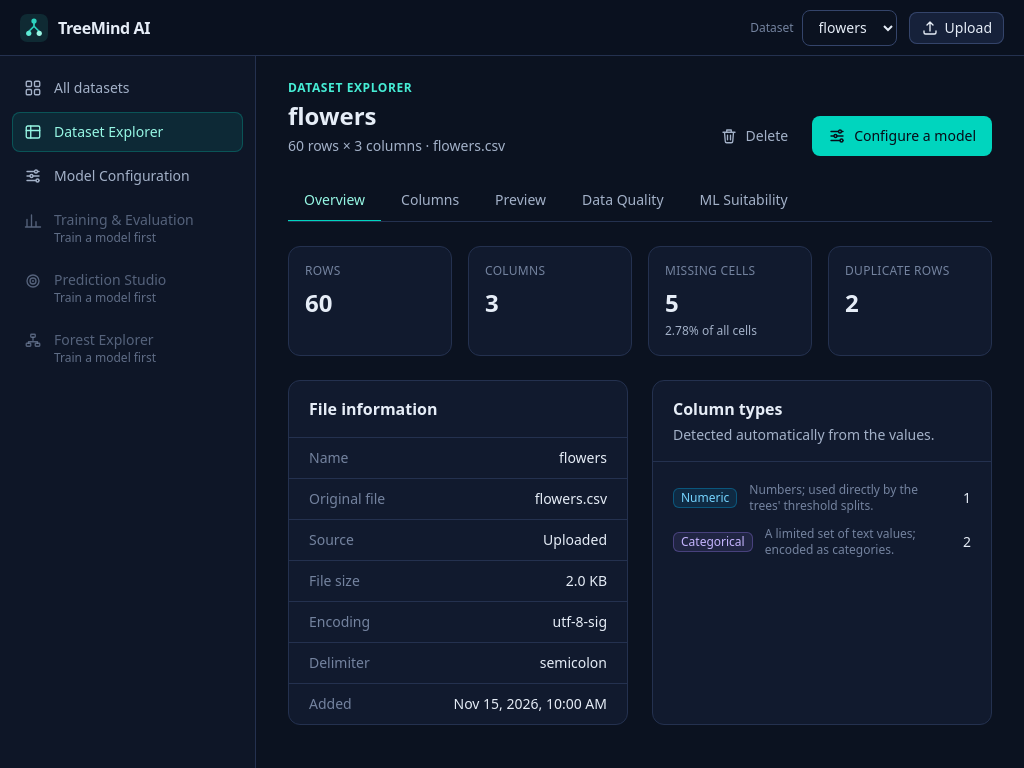
Scenario: Dataset Explorer › switches between the five sections via the URL
The image size is (1024, 768).
Check: the heading "flowers" is shown, box [288,99,376,132]
Click the tab "Columns": x=430, y=201 [385,180,475,222]
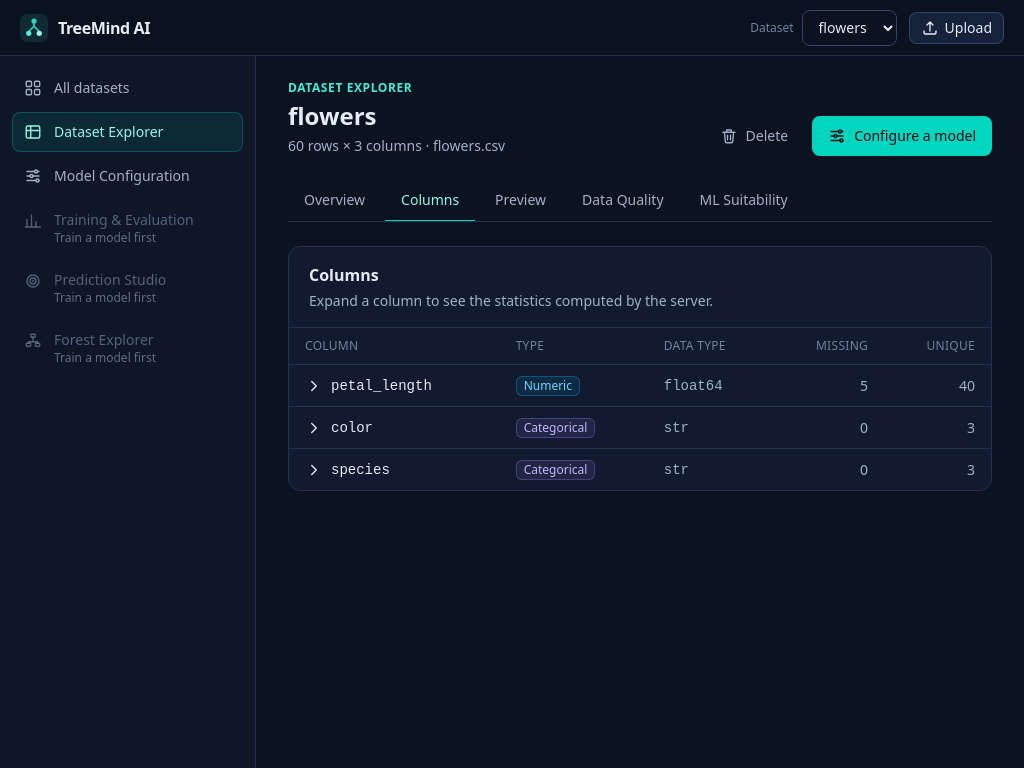
Click the button "petal_length": x=368, y=386 [305,376,432,396]
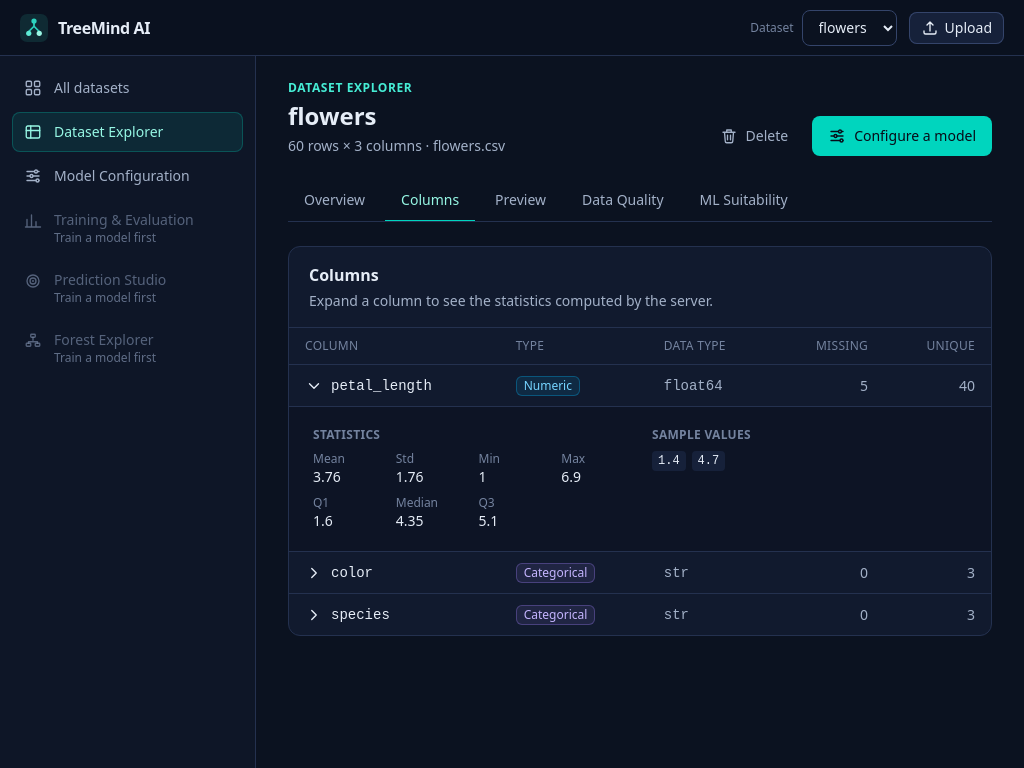
Check: the text "4.35" is shown, box [396,511,424,530]
